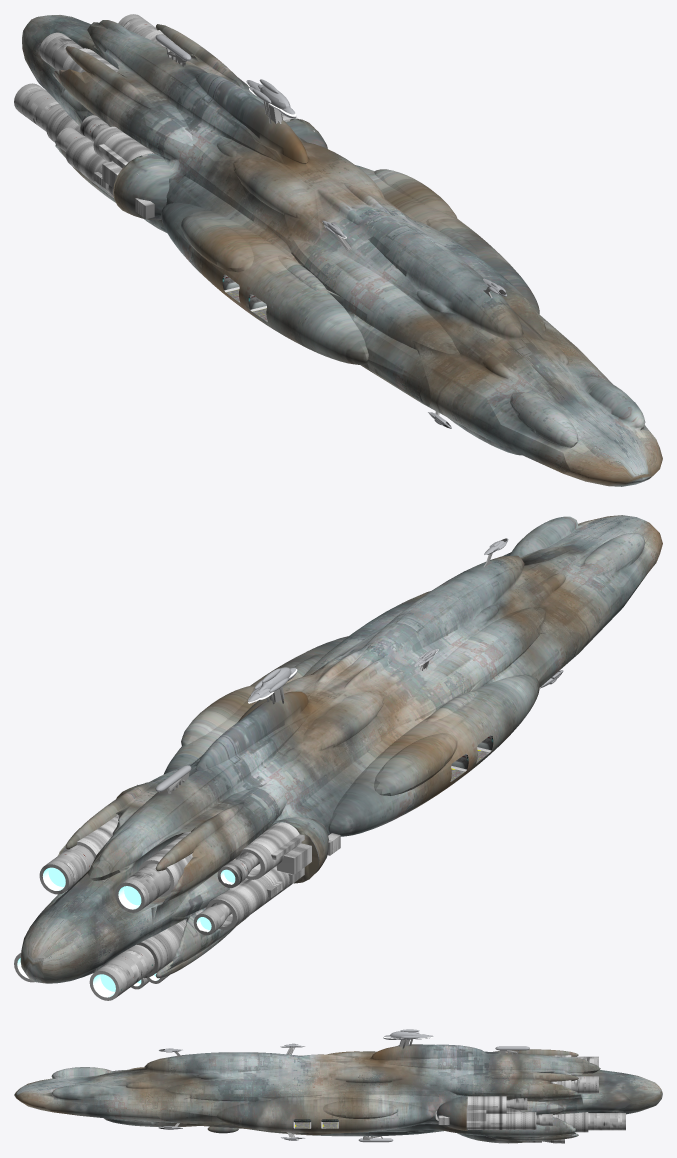
File: mon_calamari.glb
3 views of the same model, one above another, from view 1: azimuth 30°, elevation 25°; view 2: azimuth 150°, elevation 25°; view 3: azimuth 270°, elevation 25° (orthographic). The views are drawn at different scales.
Parts seen in each view (by area): view 1: rcmain, rc_eng_pipes_1, rc_eng_smooth_1, rcmainpod; view 2: rcmain, rc_eng_pipes_1, rc_eng_smooth_1, rc_eng_lites_1, rcmainpod; view 3: rcmain, rc_eng_pipes_1, rc_eng_smooth_1, rcmainpod, rcmainstru.
Part boxes in pixels (left/top/right/bottom): rcmain: left=22, top=15, right=662, bottom=486; rc_eng_pipes_1: left=46, top=30, right=314, bottom=218; rc_eng_smooth_1: left=14, top=14, right=156, bottom=151; rcmainpod: left=155, top=34, right=507, bottom=428; rcmain: left=20, top=515, right=662, bottom=983; rc_eng_pipes_1: left=63, top=784, right=340, bottom=978; rc_eng_smooth_1: left=14, top=845, right=259, bottom=1000; rc_eng_lites_1: left=17, top=867, right=235, bottom=997; rcmainpod: left=155, top=538, right=563, bottom=792; rcmain: left=14, top=1044, right=662, bottom=1143; rc_eng_pipes_1: left=435, top=1055, right=588, bottom=1142; rc_eng_smooth_1: left=506, top=1056, right=625, bottom=1143; rcmainpod: left=159, top=1029, right=529, bottom=1142; rcmainstru: left=174, top=1038, right=519, bottom=1140.
Size of the model in its own units: 559 by 491 by 2577.
29 materials, 26 textured.
